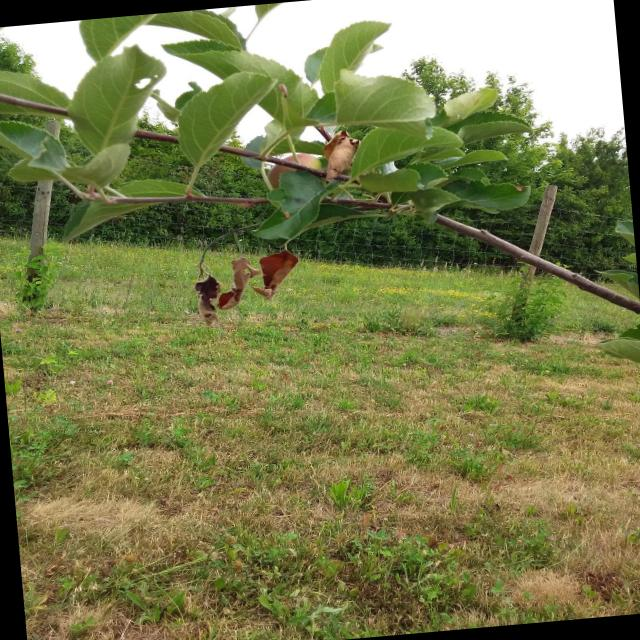-FireBlight-: (187, 256, 316, 316), (311, 121, 378, 198)
